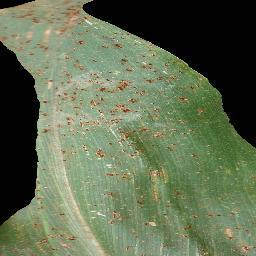Corn_Common_Rust: (31, 0, 104, 256), (104, 21, 174, 256), (175, 56, 256, 256), (0, 0, 30, 78)
